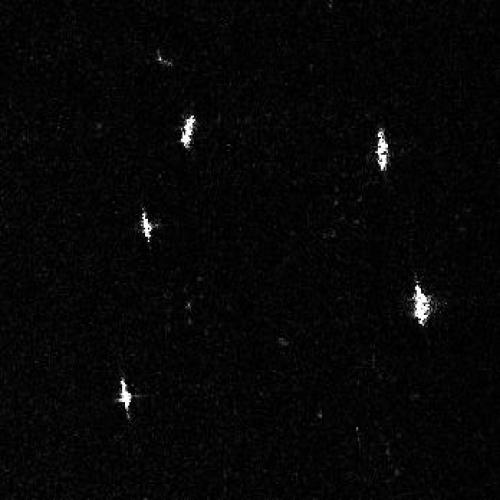ship: (409, 282, 432, 328), (374, 124, 391, 174), (179, 111, 198, 151), (119, 375, 135, 416), (140, 208, 154, 244)
